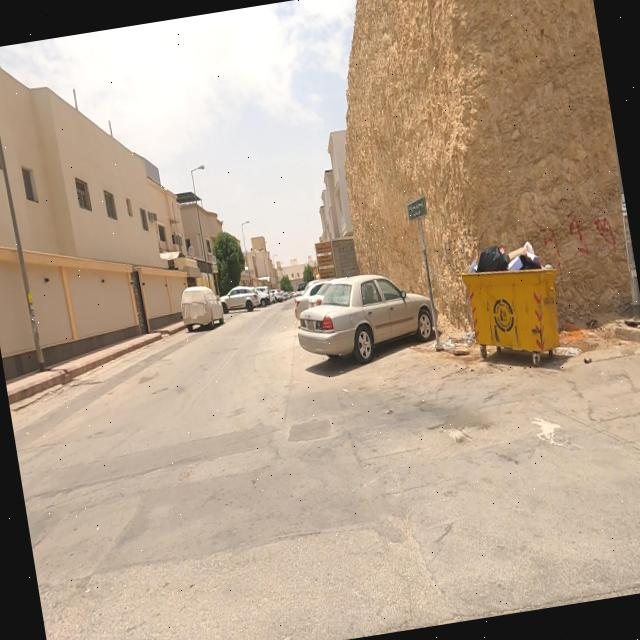Graffiti: (567, 218, 591, 259), (596, 217, 617, 253), (541, 231, 564, 260)
